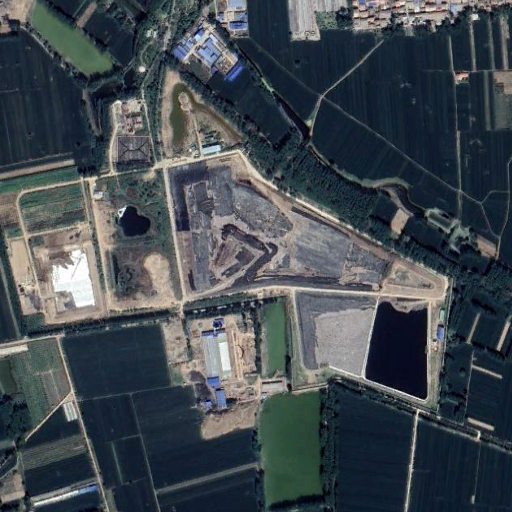lf: (164, 152, 437, 400)
